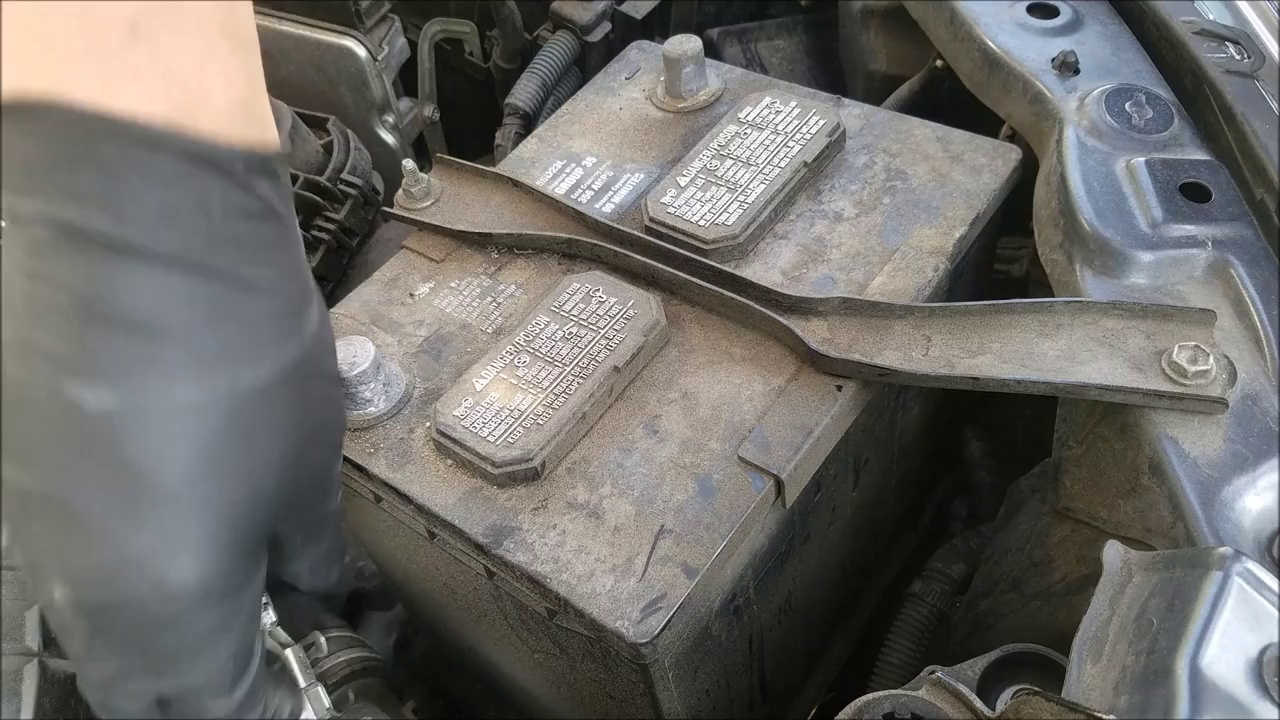battery: (284, 22, 1028, 635)
